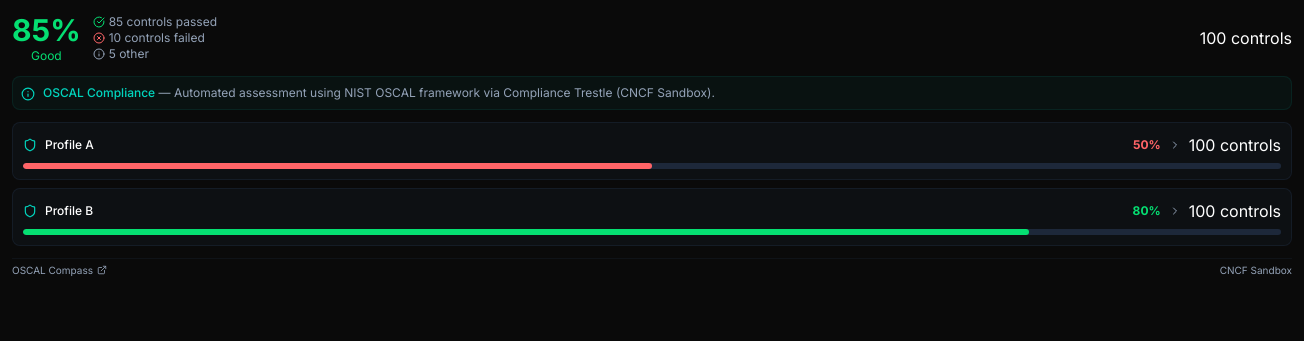
TrestleScan › profile interaction › expanding one profile and clicking another switches expanded profile
// Expand Profile A
What coordinates should you click on to do the following:
click the text "Profile A"
I would click on:
 (69, 145)
Its box is [45,137,94,153].
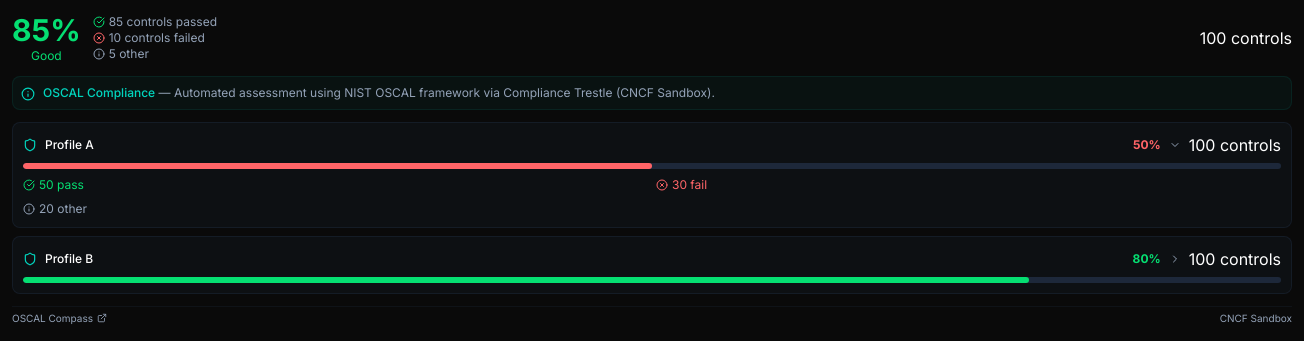
Result: the text "50 pass" is shown at [39,177,84,193]
// Click Profile B — should expand B and collapse A
What coordinates should you click on to do the following:
click the text "Profile B"
I would click on:
 (69, 259)
Its box is [45,251,93,267].
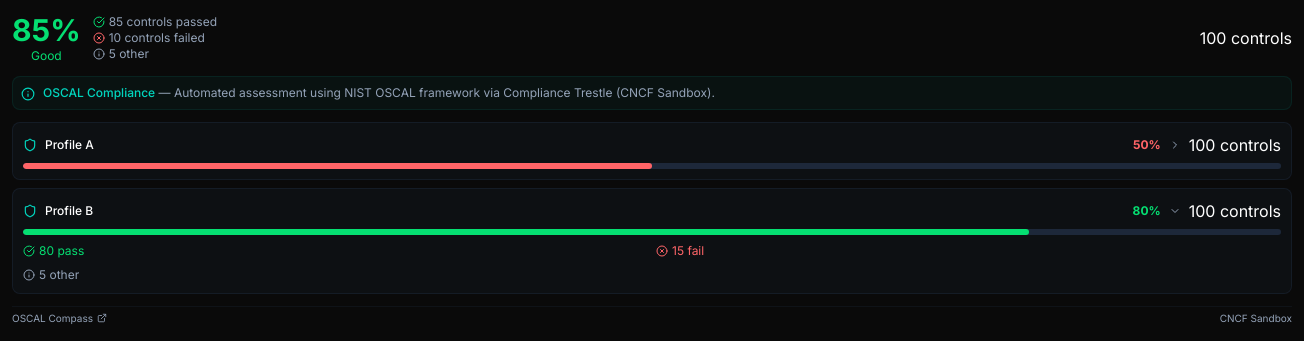
Result: the text "80 pass" is shown at [39,243,84,259]
Result: the button "50 pass" is gone
